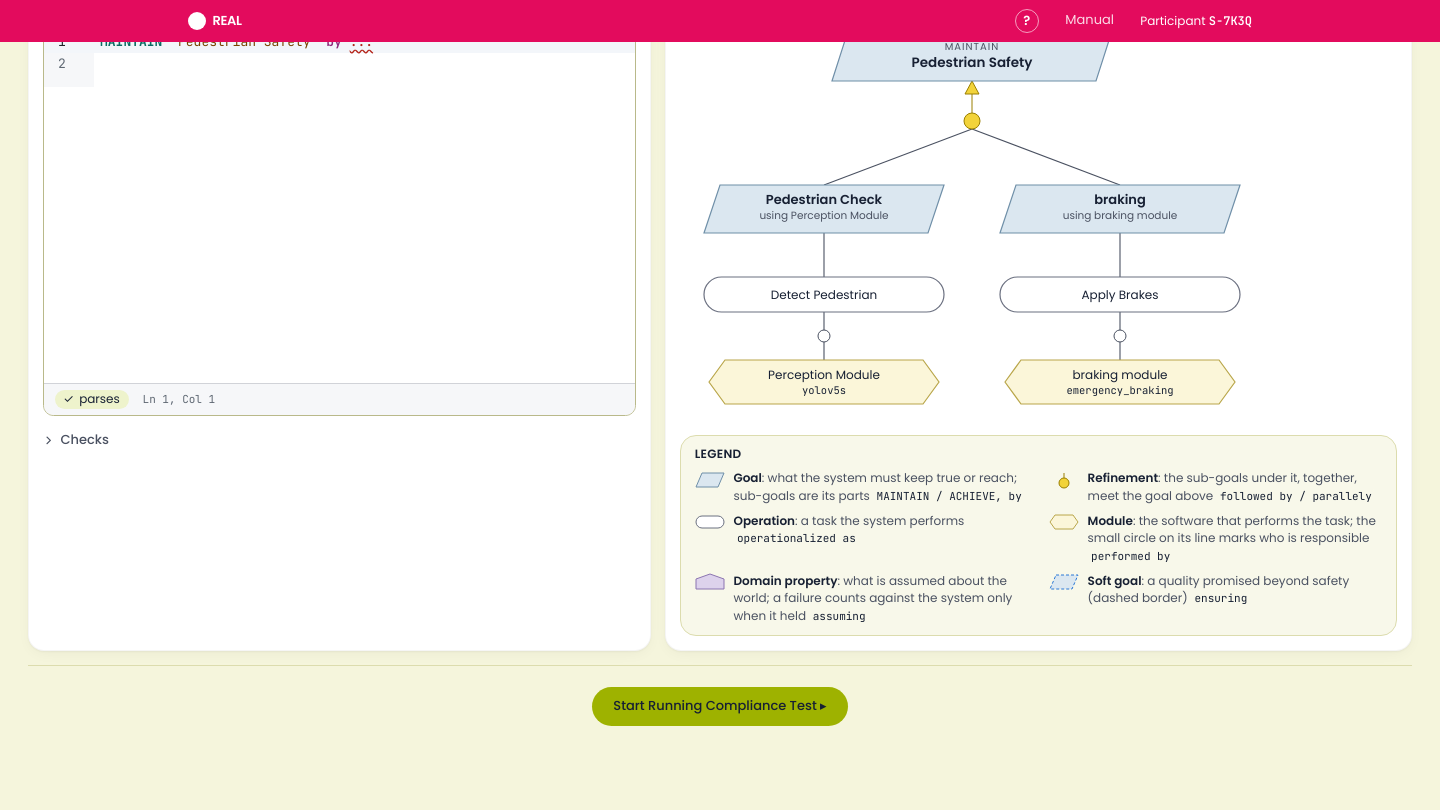
the study build, before any run › opens the review at once, at the requirement under test: no run panel
(page scrolled)
Click the button "Start Running Compliance Test ▸": (720, 706) [592,687,848,726]
(page scrolled)
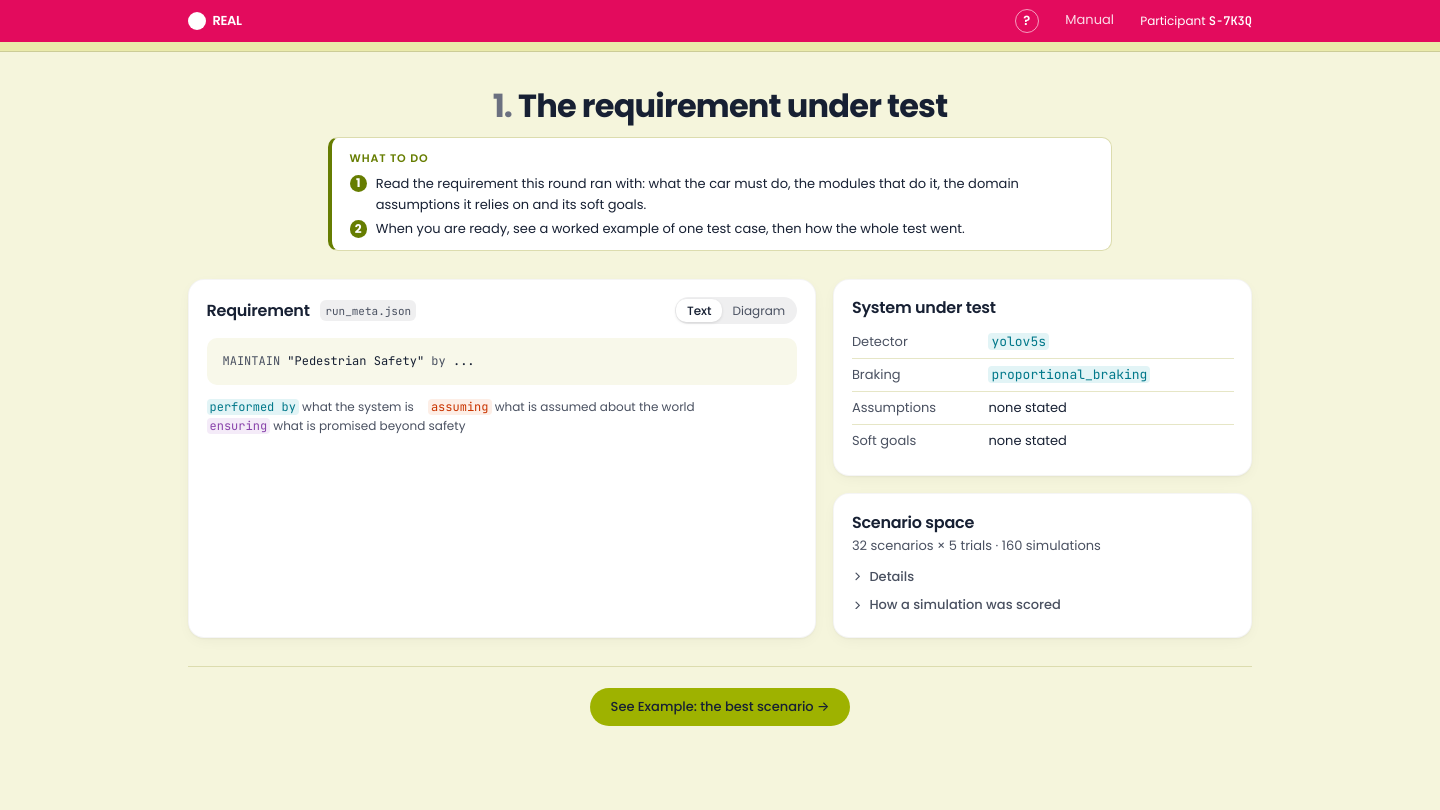
expect the button "Compliance Test" is gone: met
